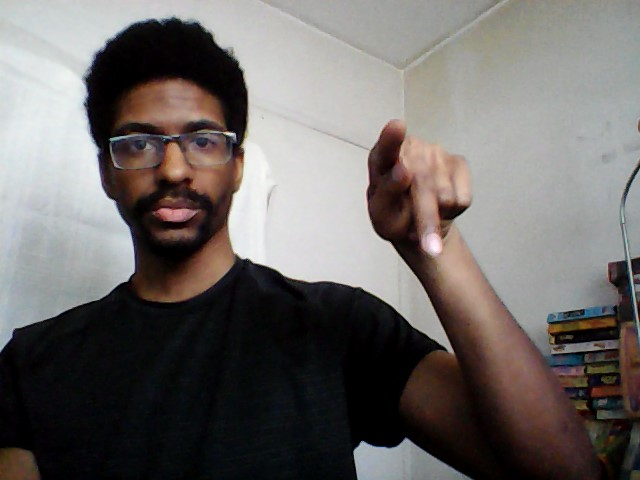p: (362, 112, 477, 264)
